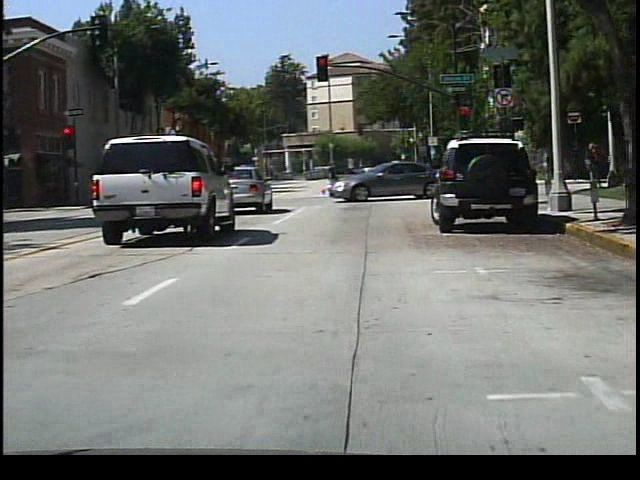person: (587, 138, 603, 193), (457, 151, 474, 187), (323, 158, 343, 183)
